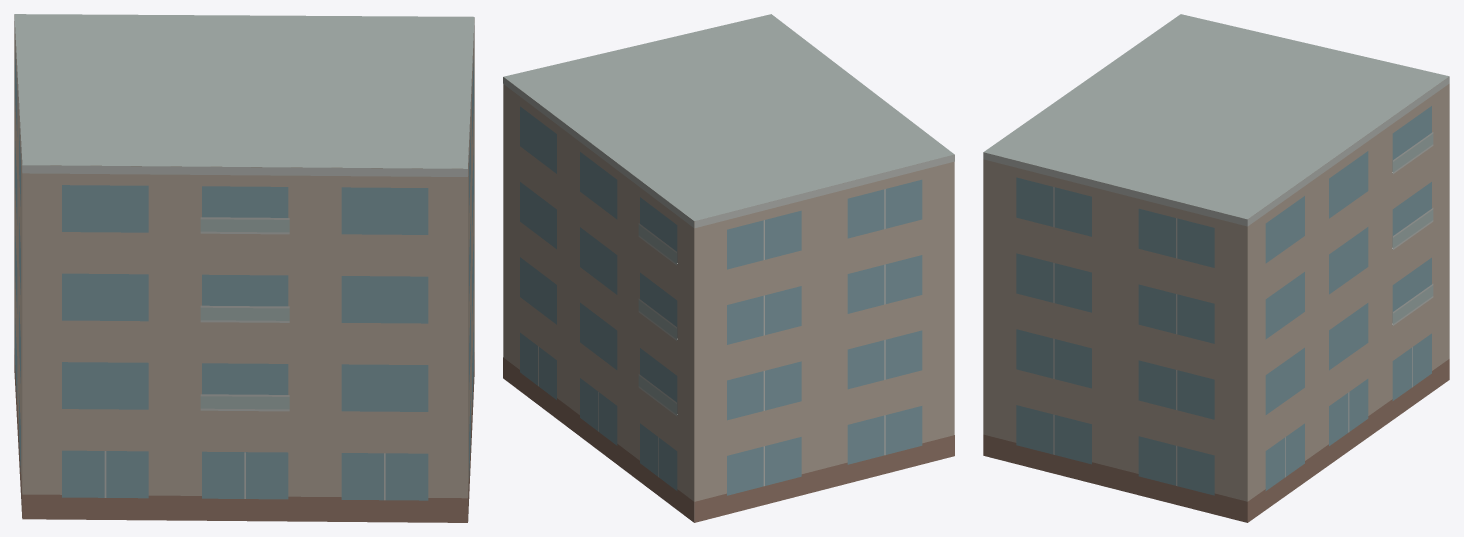
File: survey-upis-32529984.glb
3 views of the same model, side by side, from view 1: azimuth 30°, elevation 25°; view 2: azimuth 150°, elevation 25°; view 3: azimuth 270°, elevation 25° (orthographic). The views are drawn at different scales.
Visible parts, largest first — view 1: survey-upis-32529984.tmp; view 2: survey-upis-32529984.tmp; view 3: survey-upis-32529984.tmp.
Part boxes in pixels (bbox=[...]): survey-upis-32529984.tmp: bbox=[14, 14, 474, 522]; survey-upis-32529984.tmp: bbox=[503, 14, 954, 522]; survey-upis-32529984.tmp: bbox=[983, 14, 1449, 522].
Size of the model in its own units: 15.11 by 10.4 by 14.49.
